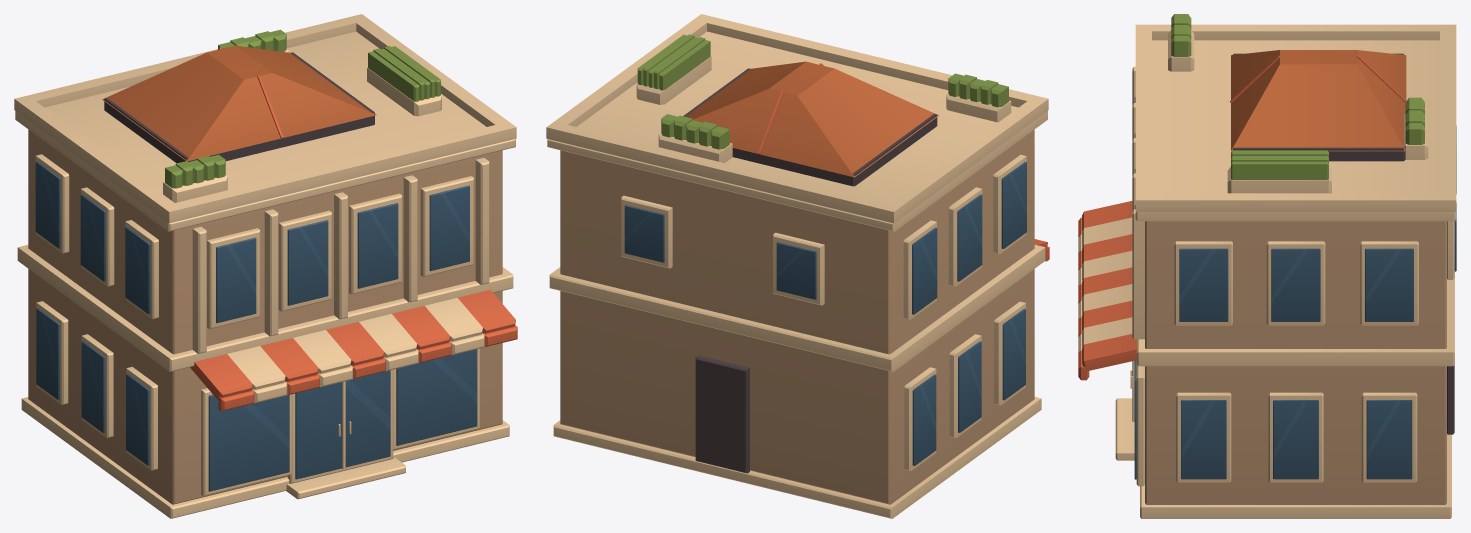
Rendered from 01D-market-threejs.glb.
3 views of the same model, side by side, from view 1: azimuth 30°, elevation 25°; view 2: azimuth 150°, elevation 25°; view 3: azimuth 270°, elevation 25° (orthographic). The views are drawn at different scales.
Parts seen in each view (by area): view 1: 01D / trim, 01D / glass, 01D / wall, 01D / roof, 01D / accent, 01D / green, 01D / dark; view 2: 01D / wall, 01D / trim, 01D / roof, 01D / glass, 01D / dark, 01D / green; view 3: 01D / trim, 01D / wall, 01D / glass, 01D / roof, 01D / accent, 01D / green, 01D / dark.
Part boxes in pixels (<box>): 01D / trim: <box>14,14,516,518</box>; 01D / glass: <box>35,161,477,491</box>; 01D / wall: <box>28,129,502,504</box>; 01D / roof: <box>102,45,376,161</box>; 01D / accent: <box>190,47,517,411</box>; 01D / green: <box>165,29,440,188</box>; 01D / dark: <box>104,52,374,163</box>; 01D / wall: <box>560,129,1034,504</box>; 01D / trim: <box>546,14,1048,518</box>; 01D / roof: <box>686,61,938,177</box>; 01D / glass: <box>624,162,1026,465</box>; 01D / dark: <box>683,68,937,473</box>; 01D / green: <box>637,34,1008,149</box>; 01D / trim: <box>1078,24,1456,518</box>; 01D / wall: <box>1145,221,1446,504</box>; 01D / glass: <box>1134,97,1456,479</box>; 01D / roof: <box>1231,50,1406,151</box>; 01D / accent: <box>1078,55,1406,380</box>; 01D / green: <box>1171,14,1424,179</box>; 01D / dark: <box>1233,53,1454,434</box>.
Bounding box in the file's own units: 6.44 × 6.33 × 5.86.
Materials: 7 (7 with a texture image).
